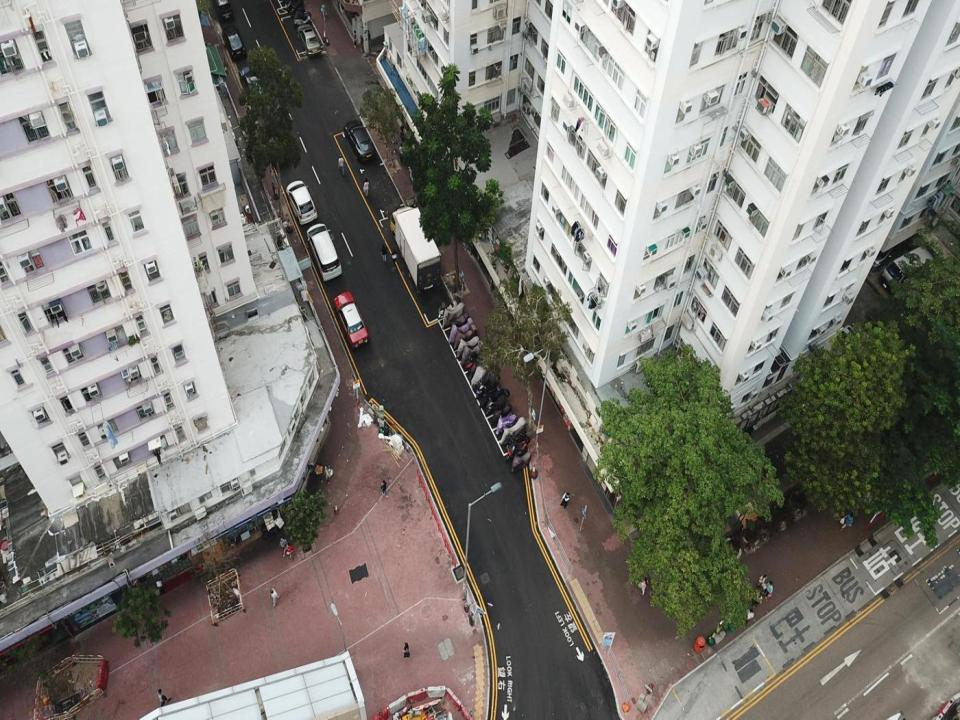car: (332, 291, 370, 349), (285, 179, 318, 225), (344, 118, 374, 162), (239, 64, 266, 104), (297, 22, 320, 56), (222, 26, 245, 60)
truck: (389, 206, 441, 294)
van: (306, 223, 342, 281)
